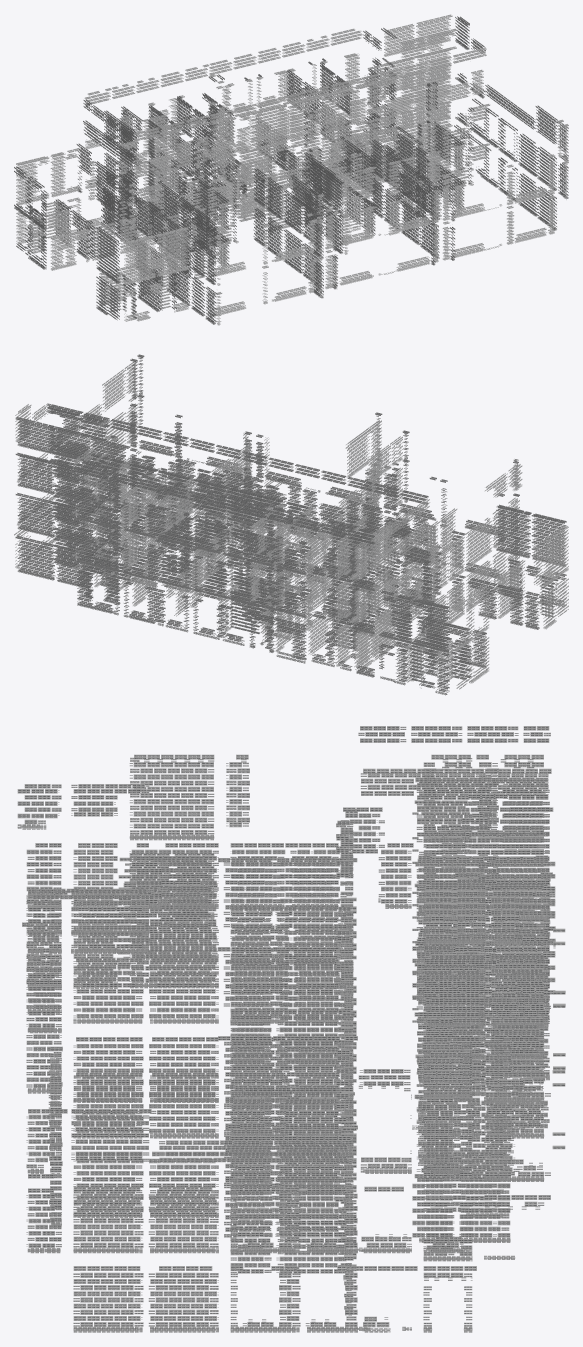
The model's file is labels.glb.
3 views of the same model, one above another, from view 1: azimuth 30°, elevation 25°; view 2: azimuth 150°, elevation 25°; view 3: azimuth 270°, elevation 25° (orthographic). The views are drawn at different scales.
Parts seen in each view (by area): view 1: L_F02, L_F01, L_F03, L_F04; view 2: L_F02, L_F01, L_F03, L_F04; view 3: L_F02, L_F01, L_F03, L_F04.
Part boxes in pixels (bbox=[...]): L_F02: bbox=[14, 85, 568, 285]; L_F01: bbox=[16, 124, 557, 325]; L_F03: bbox=[14, 47, 568, 247]; L_F04: bbox=[83, 14, 486, 141]; L_F02: bbox=[15, 394, 568, 652]; L_F01: bbox=[14, 448, 568, 695]; L_F03: bbox=[15, 354, 568, 609]; L_F04: bbox=[15, 403, 430, 544]; L_F02: bbox=[26, 762, 565, 1253]; L_F01: bbox=[22, 853, 565, 1332]; L_F03: bbox=[17, 754, 565, 1173]; L_F04: bbox=[358, 726, 550, 1099].
Bounding box in the file's own units: 43.89 × 14.68 × 24.43.
1 material, 1 textured.
